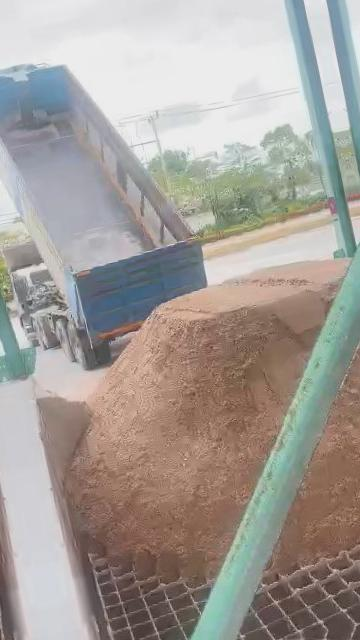sand: (68, 261, 345, 576), (276, 313, 360, 568), (37, 388, 91, 485)
